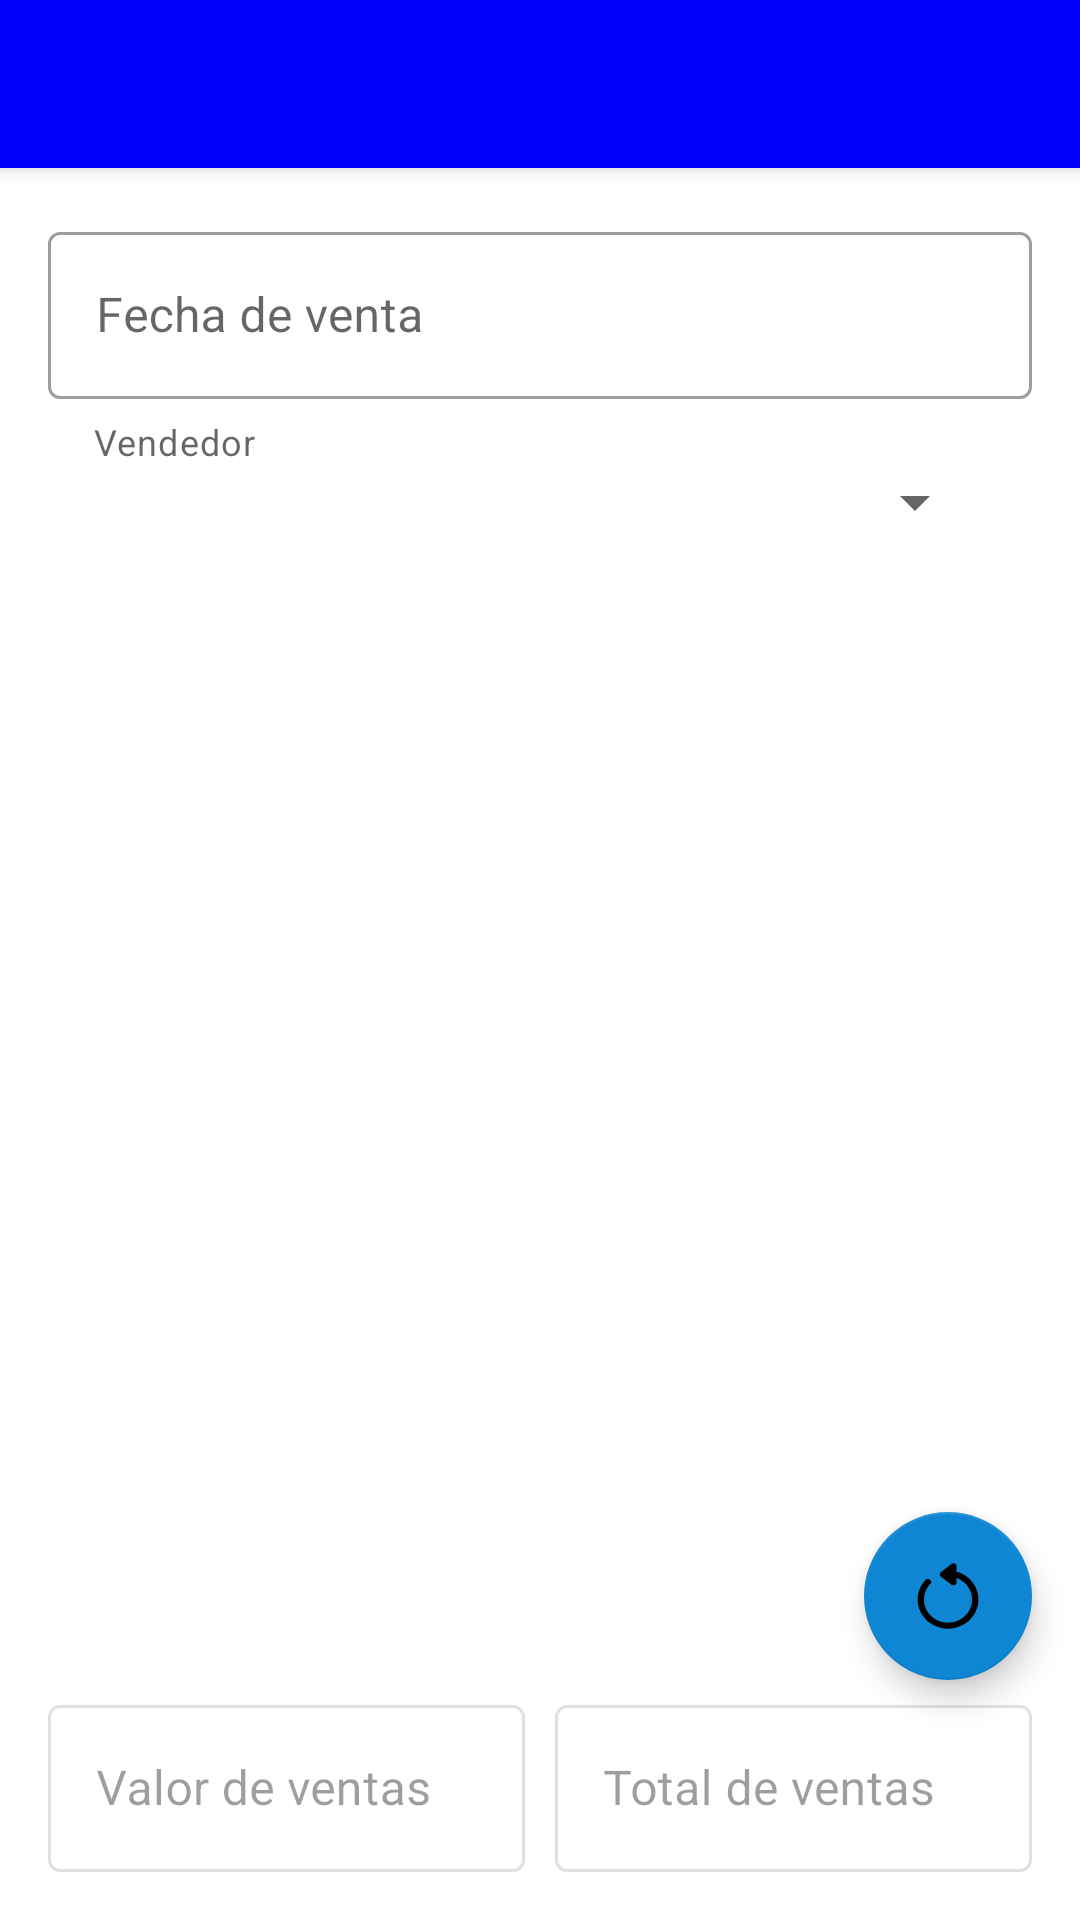

Locate icon controls on the screen. Image size 1080 x 1920, boxes as (x1, y1, x2, y2).
reload: (864, 1512, 1032, 1680)
